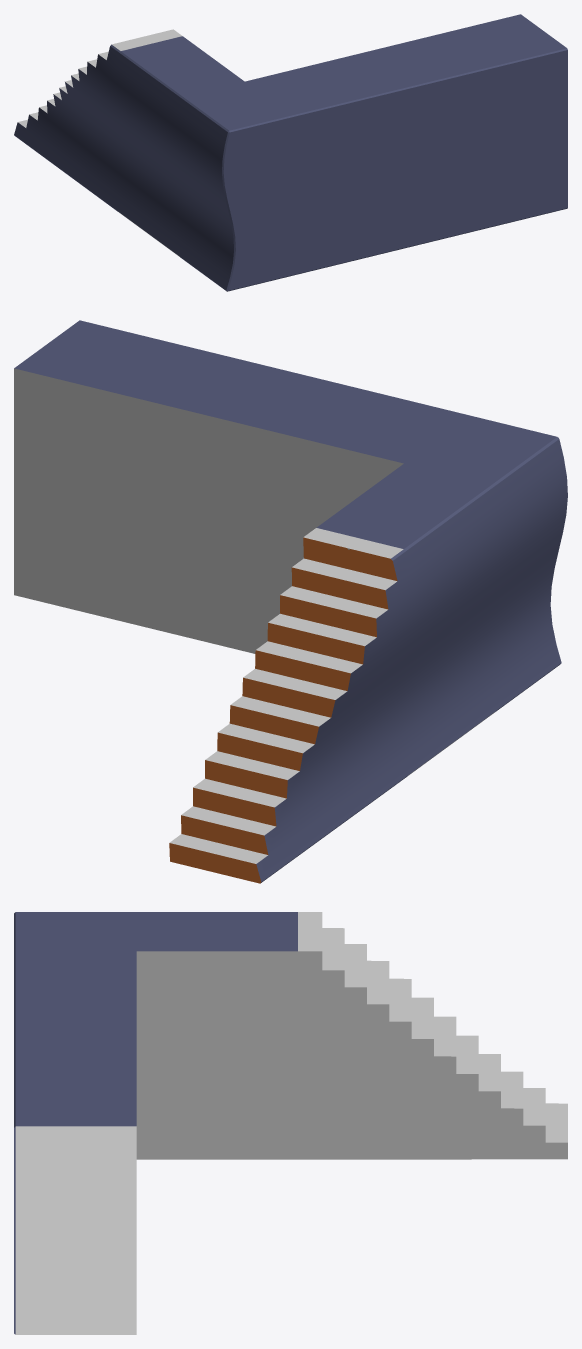
Rendered from Stairs_sty.fbx.
3 renders of one model, top to bottom at view 1: azimuth 30°, elevation 25°; view 2: azimuth 150°, elevation 25°; view 3: azimuth 270°, elevation 25°, orthographic. The views are drawn at different scales.
Parts seen in each view (by area): view 1: Stairs; view 2: Stairs; view 3: Stairs.
Part boxes in pixels (x1=…): Stairs: x1=14, y1=14, x2=567, y2=291; Stairs: x1=14, y1=320, x2=567, y2=883; Stairs: x1=14, y1=912, x2=567, y2=1334.
Size of the model in its own units: 905 by 402 by 967.
